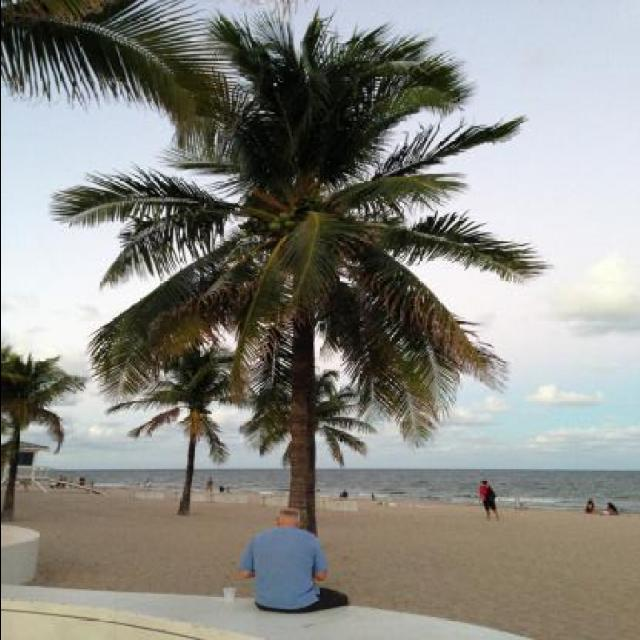Coconut: (265, 194, 329, 232)
